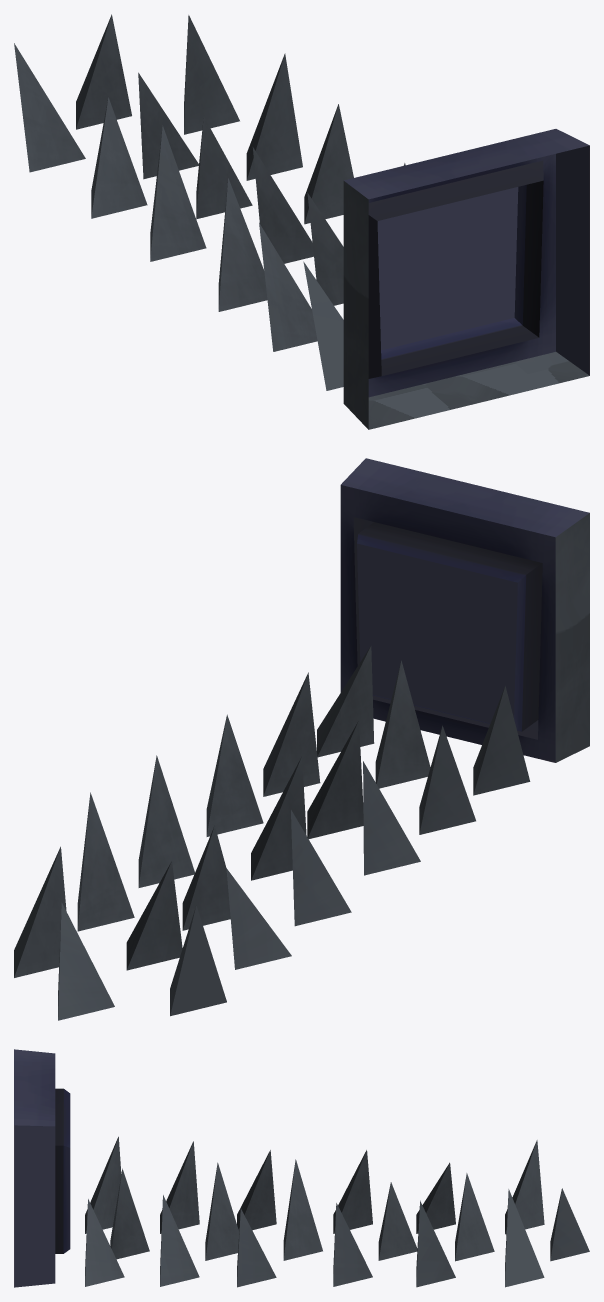
File: spikes.FBX
3 views of the same model, one above another, from view 1: azimuth 30°, elevation 25°; view 2: azimuth 150°, elevation 25°; view 3: azimuth 270°, elevation 25° (orthographic). The views are drawn at different scales.
Visible parts, largest first — view 1: Spikes; view 2: Spikes; view 3: Spikes.
Part boxes in pixels (x1=…): Spikes: x1=14, y1=14, x2=589, y2=429; Spikes: x1=14, y1=458, x2=589, y2=1020; Spikes: x1=14, y1=1049, x2=589, y2=1287.
Size of the model in its own units: 29.73 by 29.61 by 95.16.
